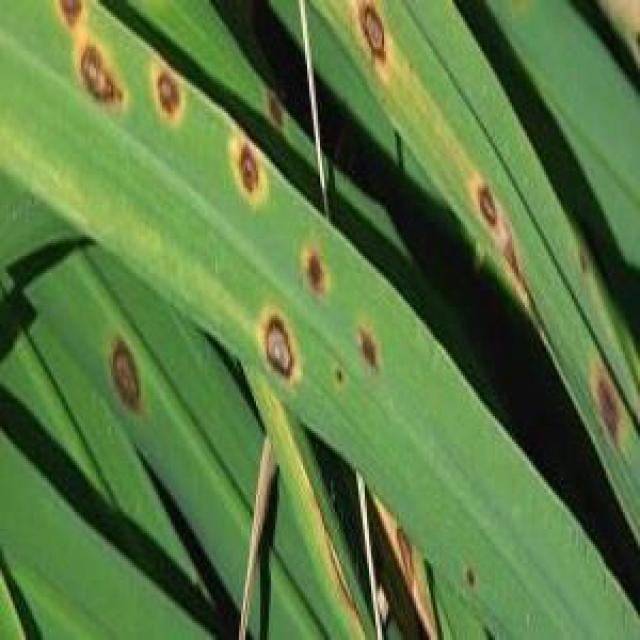Brown_Spot: (572, 360, 640, 451), (74, 40, 140, 117), (104, 340, 156, 426), (341, 0, 392, 81), (253, 306, 302, 384), (229, 133, 277, 202), (148, 59, 194, 127), (301, 239, 336, 306), (468, 180, 502, 233), (51, 0, 98, 34), (501, 239, 528, 295), (358, 328, 380, 367), (333, 375, 354, 391)
